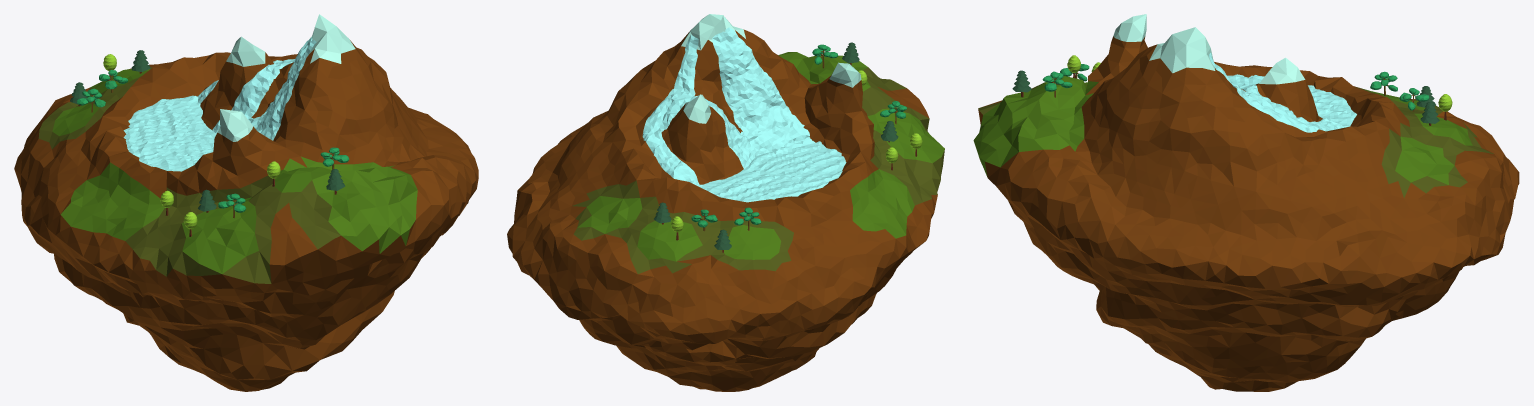
File: Island.gltf
3 renders of one model, left to right at view 1: azimuth 30°, elevation 25°; view 2: azimuth 150°, elevation 25°; view 3: azimuth 270°, elevation 25°, orthographic. The views are drawn at different scales.
Parts seen in each view (by area): view 1: Island, Lake, Waterfall, Ice Caps, Plane.003, Pine, Sphere.002; view 2: Island, Waterfall, Lake, Ice Caps, Plane.003, Pine, Sphere.002; view 3: Island, Ice Caps, Waterfall, Lake, Plane.003, Pine, Sphere.002.
Boxes of the visible parts, x1,y1,x2,y2 form: Island: (14,40,478,391); Lake: (123,95,216,171); Waterfall: (197,37,316,140); Ice Caps: (217,14,355,141); Plane.003: (77,70,349,218); Pine: (70,50,345,212); Sphere.002: (103,54,280,236); Island: (507,29,944,391); Waterfall: (642,27,810,186); Lake: (698,138,846,202); Ice Caps: (681,14,861,123); Plane.003: (691,44,906,231); Pine: (654,42,898,252); Sphere.002: (671,70,922,240); Island: (973,36,1519,391); Ice Caps: (1113,14,1305,84); Waterfall: (1209,53,1344,132); Lake: (1227,74,1356,127); Plane.003: (1042,64,1429,111); Pine: (1012,70,1439,125); Sphere.002: (1067,55,1452,120).
Size of the model in its own units: 22.82 by 21.07 by 27.27.
